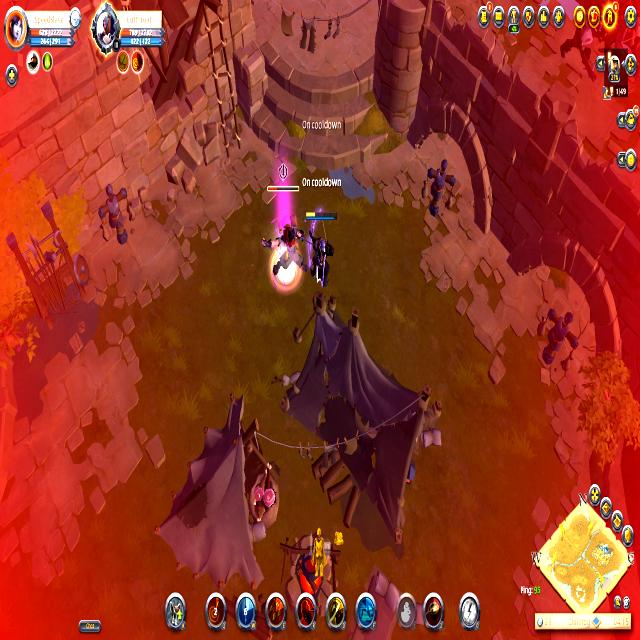ore: (262, 182, 304, 290)
red: (302, 208, 340, 284)
